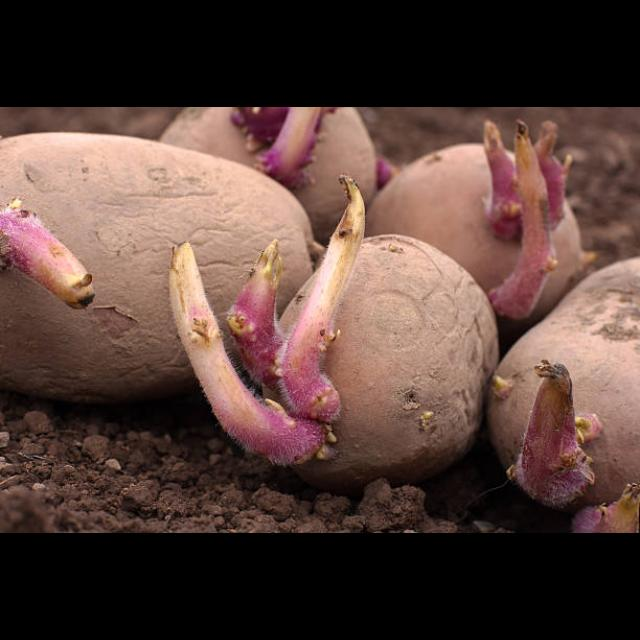Sprouted potato: (212, 218, 510, 524), (0, 126, 320, 338), (3, 195, 261, 411), (346, 116, 582, 324), (482, 245, 638, 532), (154, 108, 388, 252)
